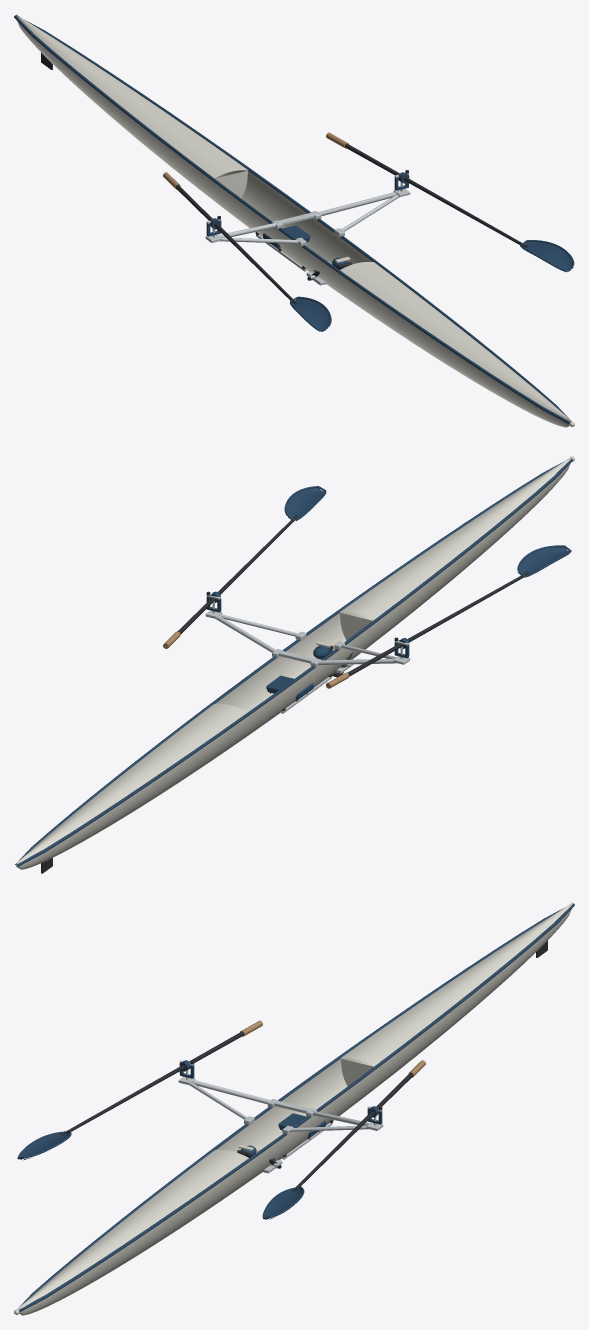
The model's file is rowing-boathouse-and-regatta-course-single-scull-shell-9805c6fb__32128.glb.
3 renders of one model, top to bottom at view 1: azimuth 30°, elevation 25°; view 2: azimuth 150°, elevation 25°; view 3: azimuth 330°, elevation 25°, orthographic.
Parts seen in each view (by area): view 1: single-scull-shell; view 2: single-scull-shell; view 3: single-scull-shell.
Part boxes in pixels (box(x1,y1,x2,y2)): single-scull-shell: box(14, 14, 574, 427); single-scull-shell: box(15, 456, 574, 873); single-scull-shell: box(14, 902, 574, 1315).
Bounding box in the file's own units: 2.19 × 0.5843 × 8.02.
